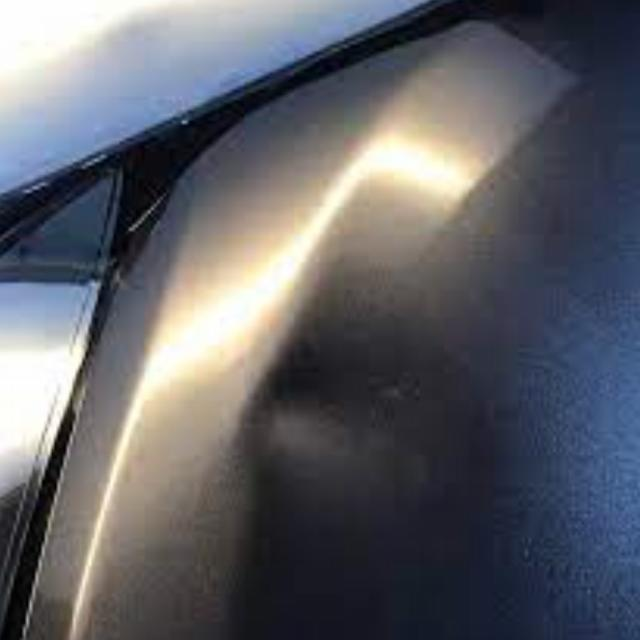dents: (239, 244, 423, 504)
